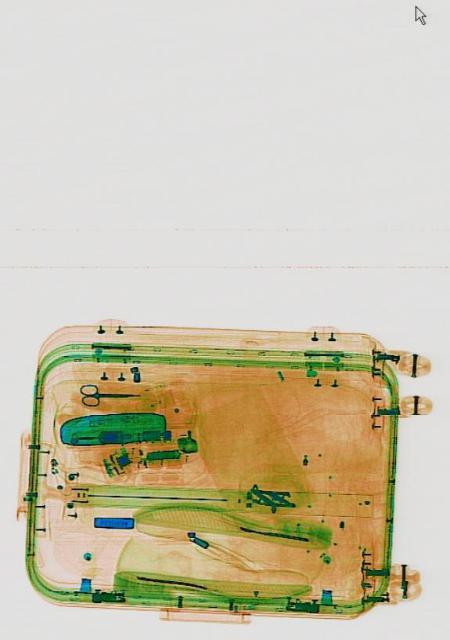Scissors: (78, 382, 141, 406)
